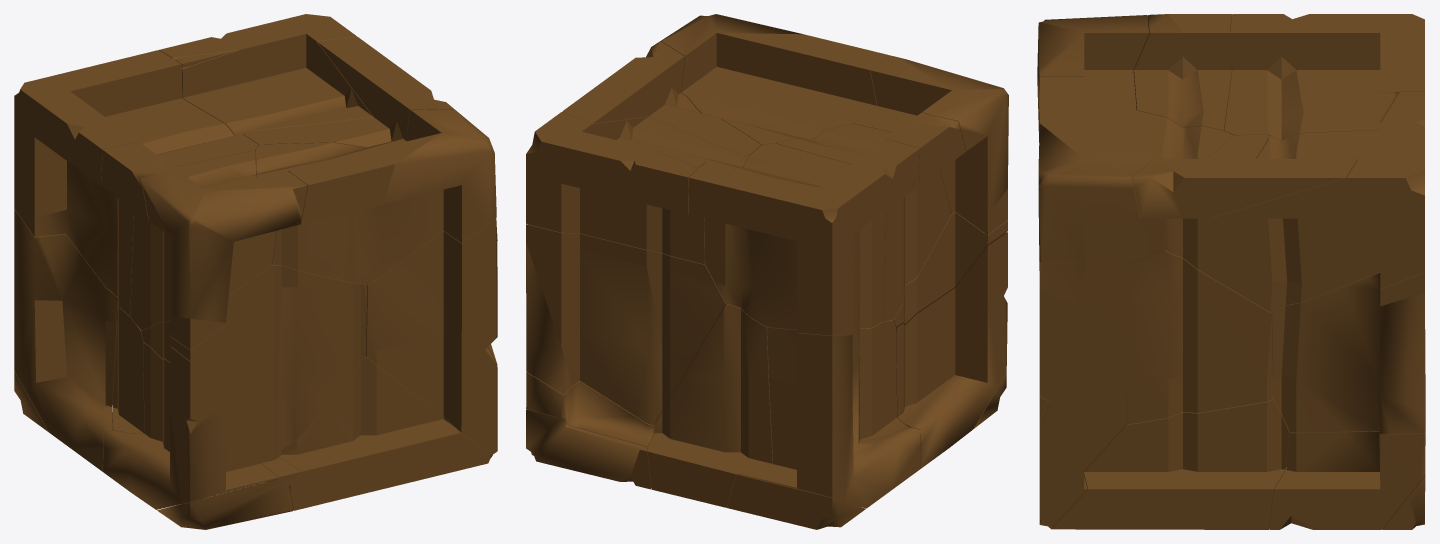
File: crate_pieces_med.glb
3 views of the same model, side by side, from view 1: azimuth 30°, elevation 25°; view 2: azimuth 150°, elevation 25°; view 3: azimuth 270°, elevation 25° (orthographic). The views are drawn at different scales.
Parts seen in each view (by area): view 1: Object_3_cell.025, Object_3_cell.037, Object_3_cell.028, Object_3_cell.029, Object_3_cell.030, Object_3_cell.032, Object_3_cell.038, Object_3_cell.023, Object_3_cell.034, Object_3_cell.035, Object_3_cell.026, Object_3_cell.039 (+2 smaller); view 2: Object_3_cell.025, Object_3_cell.024, Object_3_cell.033, Object_3_cell.023, Object_3_cell.037, Object_3_cell.030, Object_3_cell.034, Object_3_cell.032, Object_3_cell.035, Object_3_cell.026, Object_3_cell.036, Object_3_cell.028 (+2 smaller); view 3: Object_3_cell.023, Object_3_cell.021, Object_3_cell.024, Object_3_cell.025, Object_3_cell.037, Object_3_cell.027, Object_3_cell.022, Object_3_cell.040, Object_3_cell.026, Object_3_cell.035, Object_3_cell.032, Object_3_cell.036.
Part boxes in pixels (box(x1,y1,x2,y2)): Object_3_cell.025: box(14, 50, 258, 316); Object_3_cell.037: box(256, 109, 496, 284); Object_3_cell.028: box(141, 264, 366, 485); Object_3_cell.029: box(366, 218, 496, 455); Object_3_cell.030: box(14, 209, 117, 471); Object_3_cell.032: box(141, 168, 307, 349); Object_3_cell.038: box(271, 356, 491, 510); Object_3_cell.023: box(159, 14, 373, 135); Object_3_cell.034: box(103, 343, 279, 509); Object_3_cell.035: box(101, 142, 256, 330); Object_3_cell.026: box(242, 37, 453, 147); Object_3_cell.039: box(157, 479, 293, 529); Object_3_cell.025: box(688, 139, 919, 335); Object_3_cell.024: box(526, 224, 725, 425); Object_3_cell.033: box(647, 303, 909, 507); Object_3_cell.023: box(526, 111, 748, 264); Object_3_cell.037: box(661, 14, 890, 144); Object_3_cell.030: box(737, 327, 920, 508); Object_3_cell.034: box(896, 232, 1007, 468); Object_3_cell.032: box(853, 55, 1008, 234); Object_3_cell.035: box(775, 112, 965, 321); Object_3_cell.026: box(562, 41, 761, 156); Object_3_cell.036: box(526, 410, 651, 489); Object_3_cell.028: box(892, 212, 1007, 328); Object_3_cell.023: box(1165, 91, 1424, 312); Object_3_cell.021: box(1052, 377, 1291, 529); Object_3_cell.024: box(1272, 272, 1425, 434); Object_3_cell.025: box(1224, 14, 1424, 140); Object_3_cell.037: box(1038, 77, 1234, 266); Object_3_cell.027: box(1126, 250, 1273, 424); Object_3_cell.022: box(1039, 263, 1125, 528); Object_3_cell.040: box(1269, 431, 1425, 529); Object_3_cell.026: box(1132, 134, 1356, 218); Object_3_cell.035: box(1133, 14, 1232, 130); Object_3_cell.032: box(1037, 15, 1149, 142); Object_3_cell.036: box(1382, 475, 1425, 529).
Bounding box in the file's own units: 1.33 × 1.33 × 1.33.
